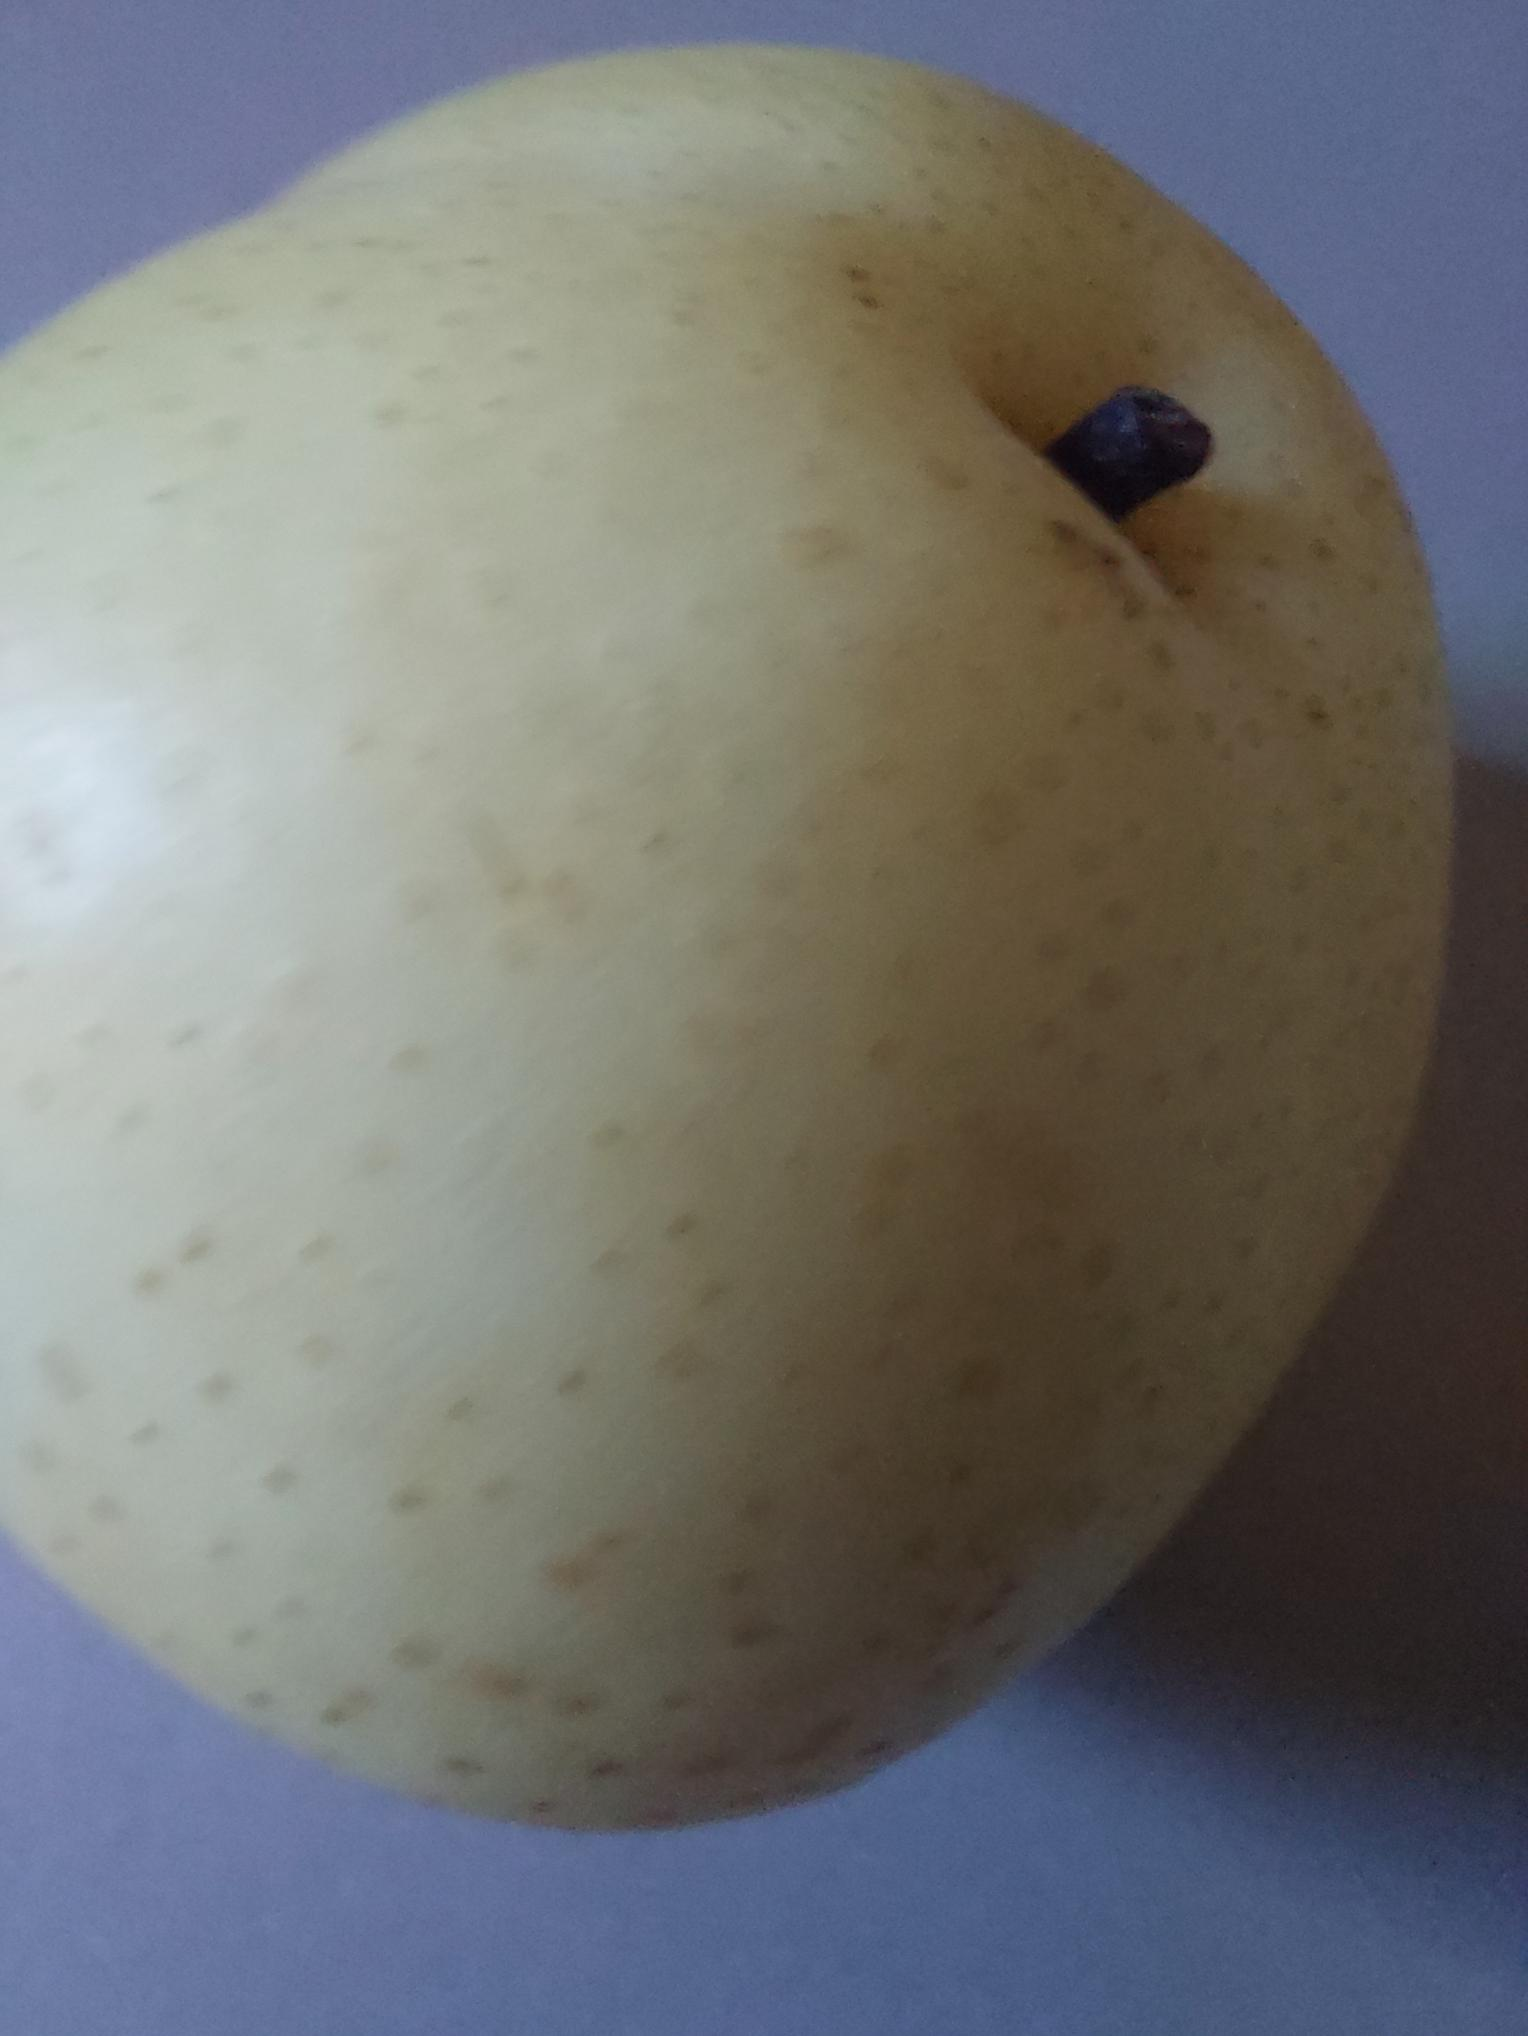Good Pear: (0, 10, 1446, 1839)
